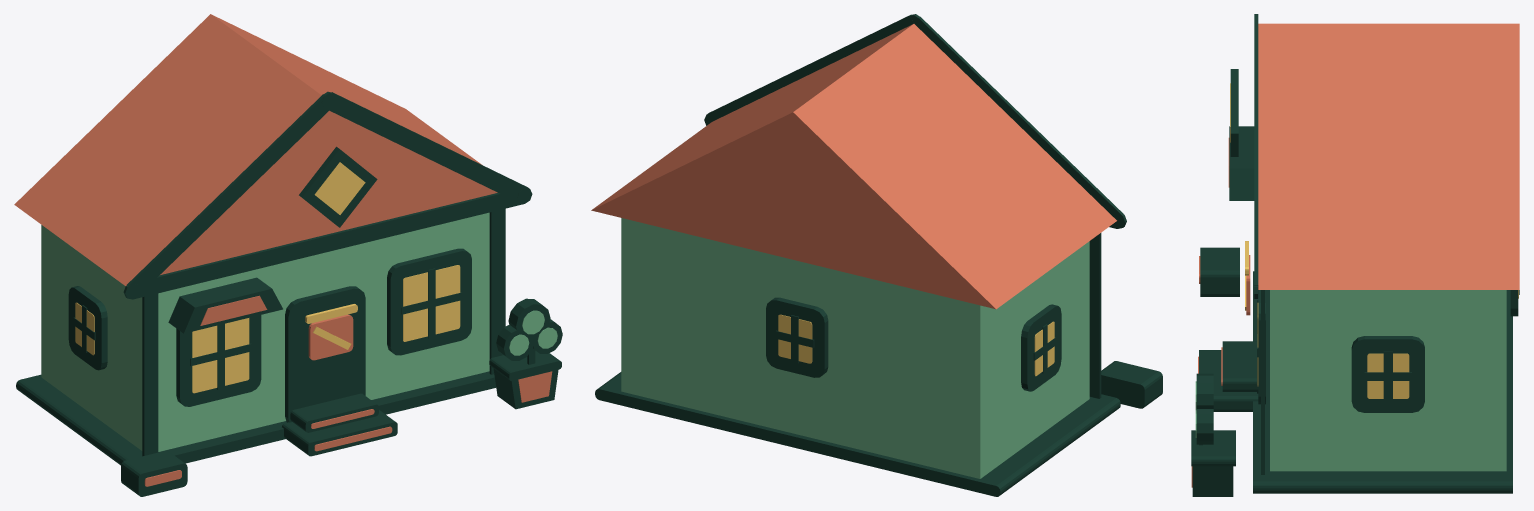
3 views of the same model, side by side, from view 1: azimuth 30°, elevation 25°; view 2: azimuth 150°, elevation 25°; view 3: azimuth 270°, elevation 25° (orthographic). The views are drawn at different scales.
Visible parts, largest first — view 1: Rent Free house; view 2: Rent Free house; view 3: Rent Free house.
Part boxes in pixels (x1,y1,x2,y2): Rent Free house: (14,14,562,496); Rent Free house: (591,14,1162,496); Rent Free house: (1191,14,1519,496).
Bounding box in the file's own units: 1.19 × 0.8986 × 0.7143.
